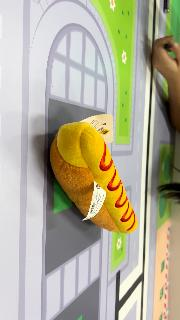hotdog: (50, 121, 138, 235)
